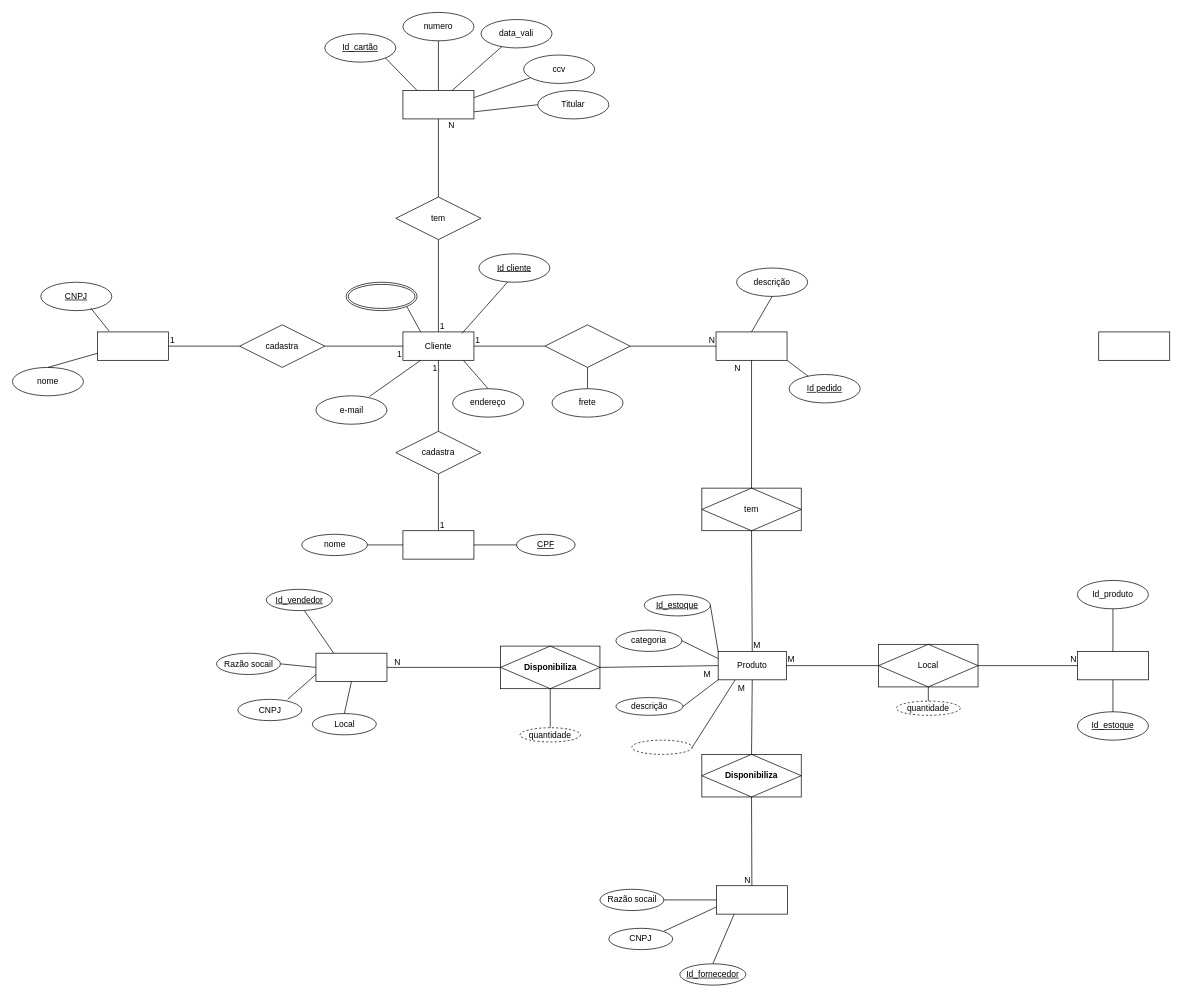
This 1182x998 diagram has some shape labels left out. Each missing label, with the box of its shape:
Cartão: (402, 90, 474, 119)
Estoque: (1077, 651, 1148, 680)
faz: (544, 324, 630, 367)
Fisica: (402, 530, 474, 559)
Fornecedor: (716, 885, 787, 914)
Juridica: (97, 331, 169, 360)
Pedido: (715, 331, 787, 360)
Status: (1098, 331, 1170, 360)
telefone: (345, 282, 417, 311)
Terceiro: (315, 652, 387, 682)
valor: (631, 739, 692, 754)
